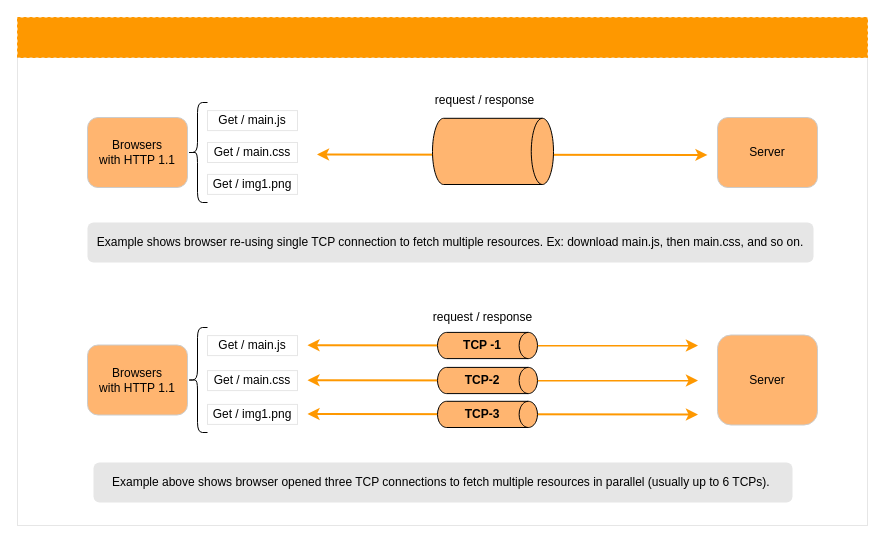
The diagram is 885 pixels wide and 543 high, and some of its shapes have lost their labels. Here are the shapes that lost their labels. From the top down, the box of each, then its label:
(16, 16, 868, 58): HTTP 1.1
(432, 117, 554, 184): Over Single TCP Connection
